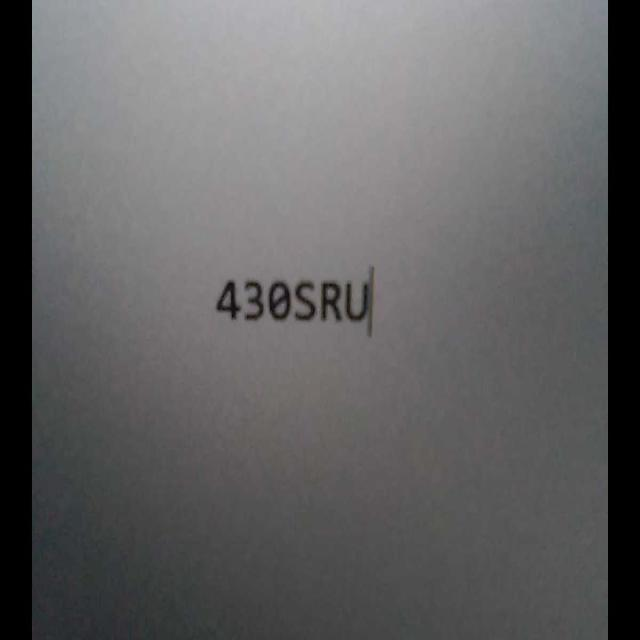license_plate: (213, 272, 370, 339)
